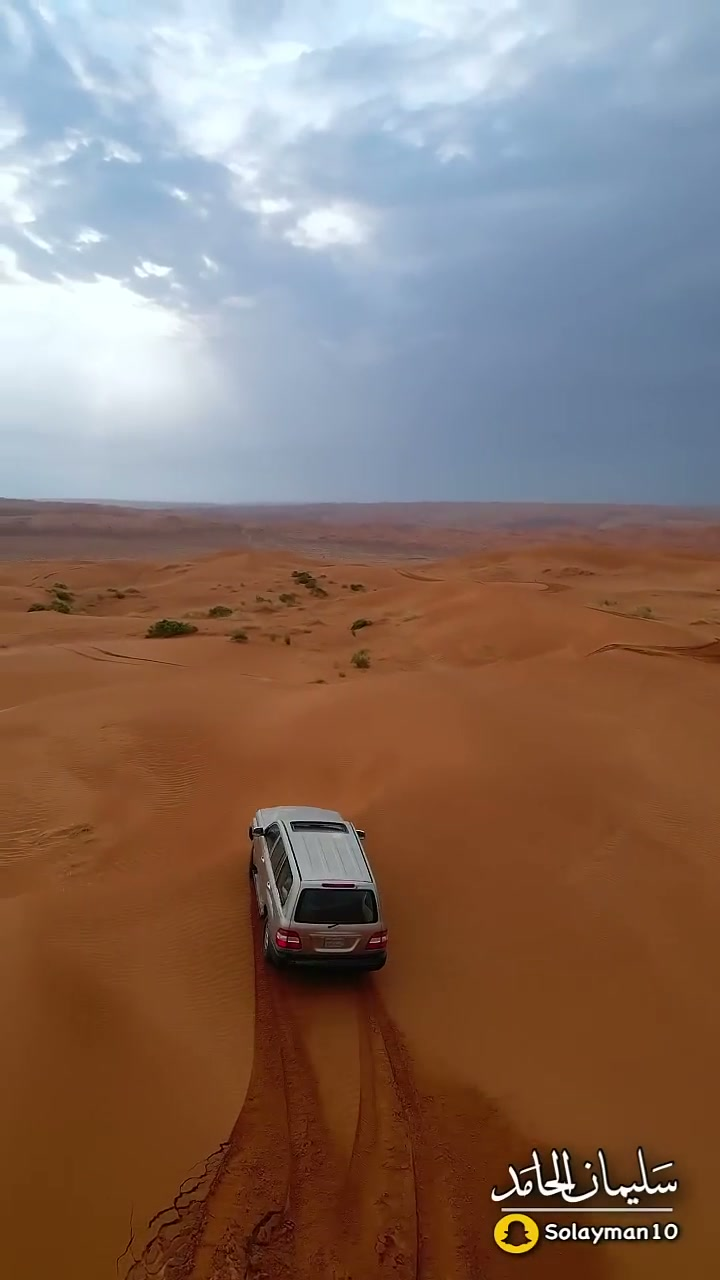vehicle_track: (124, 903, 530, 1279)
